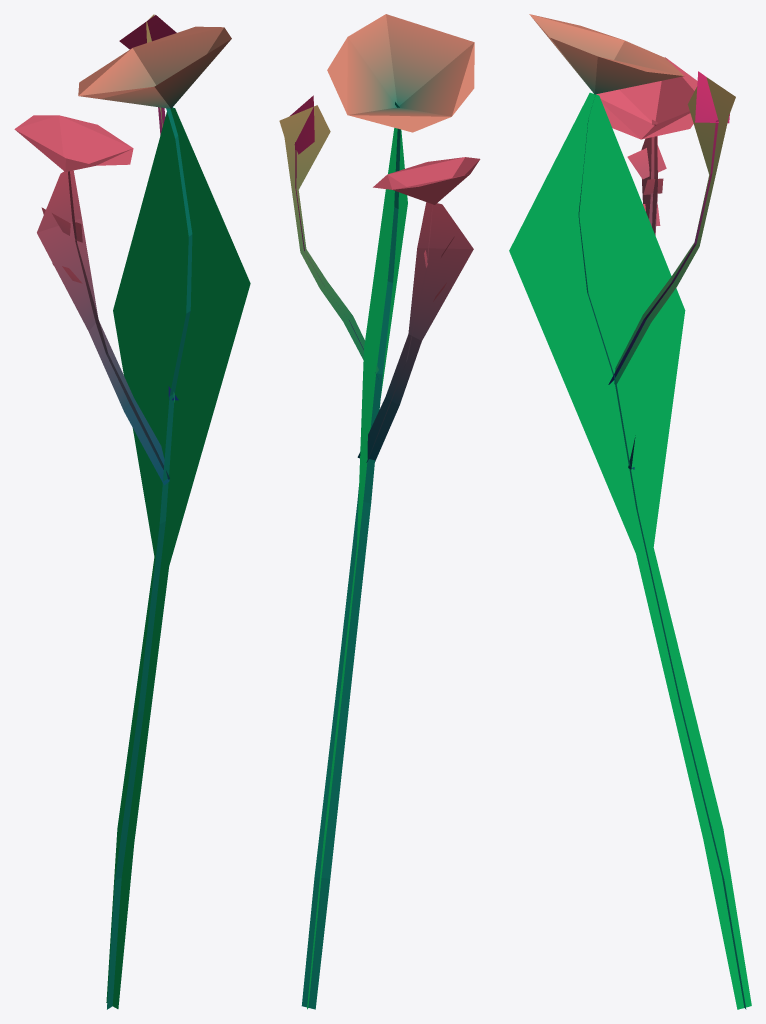
The model's file is Nordic_Coastal_Groundcover_vlqkdeaja_Mid_vlqkdeaja_VarG_LOD0.fbx.
3 renders of one model, left to right at view 1: azimuth 30°, elevation 25°; view 2: azimuth 150°, elevation 25°; view 3: azimuth 270°, elevation 25°, orthographic. The views are drawn at different scales.
Visible parts, largest first — view 1: _koat_VarG_LOD1; view 2: _koat_VarG_LOD1; view 3: _koat_VarG_LOD1.
Part boxes in pixels (left/top/right/bottom): _koat_VarG_LOD1: left=14, top=14, right=250, bottom=1009; _koat_VarG_LOD1: left=279, top=14, right=480, bottom=1009; _koat_VarG_LOD1: left=509, top=14, right=751, bottom=1009.
Size of the model in its own units: 7.07 by 36.39 by 8.18.
